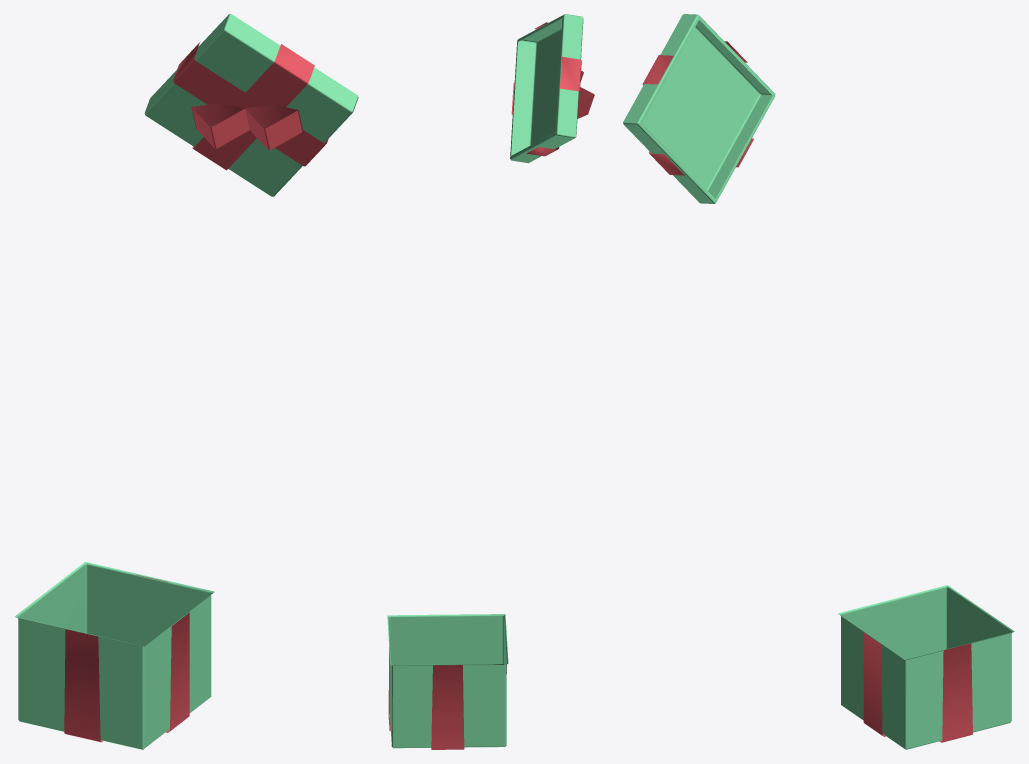
File: kutu.fbx
3 renders of one model, left to right at view 1: azimuth 30°, elevation 25°; view 2: azimuth 150°, elevation 25°; view 3: azimuth 270°, elevation 25°, orthographic. The views are drawn at different scales.
Parts seen in each view (by area): view 1: Box.001, Box.002; view 2: Box.001, Box.002; view 3: Box.001, Box.002.
Part boxes in pixels (box(x1,y1,x2,y2)): Box.001: box(14, 562, 214, 749); Box.002: box(144, 14, 358, 196); Box.001: box(387, 614, 508, 749); Box.002: box(510, 14, 594, 163); Box.001: box(838, 585, 1014, 749); Box.002: box(623, 14, 775, 203).
Bounding box in the file's own units: 91.03 × 394 × 201.
